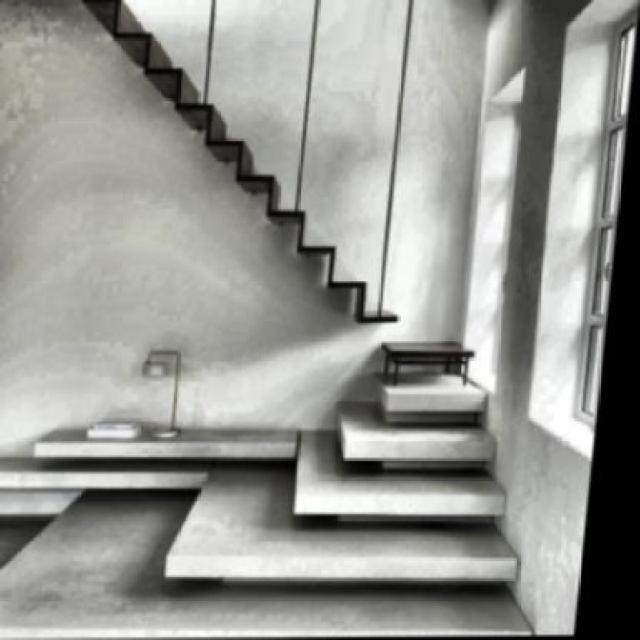stair: (257, 344, 551, 580)
